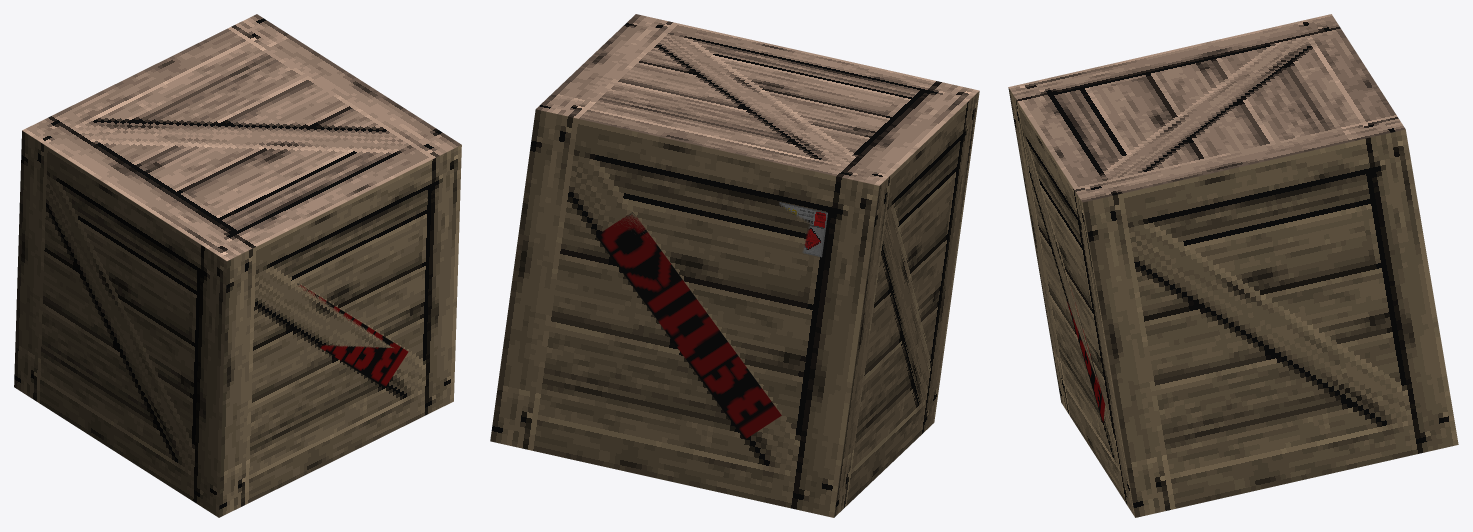
The model's file is primary_127.glb.
The picture shows the model from 3 angles, left to right: view 1: azimuth 30°, elevation 25°; view 2: azimuth 150°, elevation 25°; view 3: azimuth 270°, elevation 25°; orthographic projection. The views are drawn at different scales.
Visible parts, largest first — view 1: Object; view 2: Object; view 3: Object.
Part boxes in pixels (x1,y1,x2,y2): Object: [14, 14, 461, 517]; Object: [490, 14, 979, 517]; Object: [1008, 14, 1458, 517].
Bounding box in the file's own units: 1.28 × 1.22 × 1.32.
Materials: 7 (7 with a texture image).
